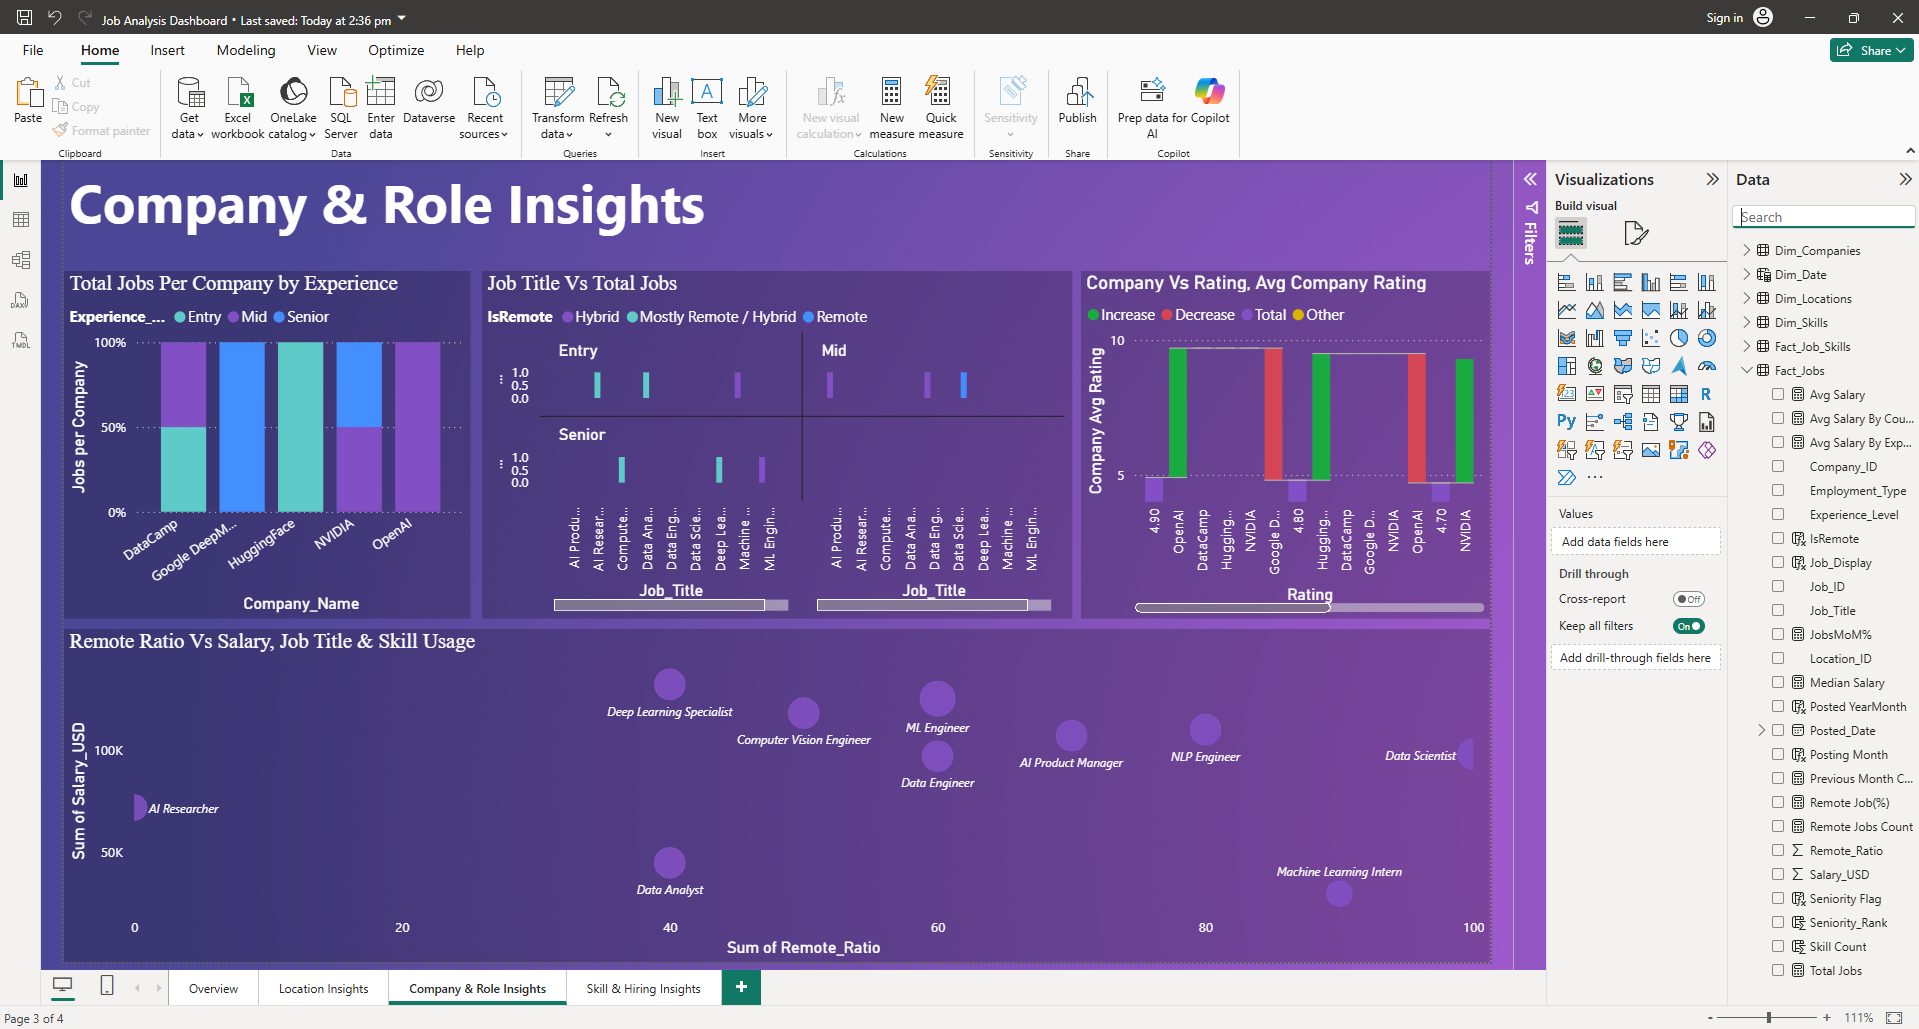

The dashboard page shown, as its layout file describes it:
{"tool":"powerbi","page":{"name":"Company & Role Insights","canvas":[1280,720],"ordinal":2},"visuals":[{"type":"textbox","box":[0,0,618.6,79],"z":0},{"type":"hundredPercentStackedColumnChart","title":"Total Jobs Per Company by Experience","fields":{"Category":["Dim_Companies.Company_Name"],"Y":["Dim_Companies.Jobs per Company"],"Series":["Fact_Jobs.Experience_Level"]},"box":[0,99.7,365.4,311.5],"z":1000},{"type":"clusteredColumnChart","title":"Job Title Vs Total Jobs","fields":{"Category":["Fact_Jobs.Job_Title"],"Y":["Fact_Jobs.Total Jobs"],"Series":["Fact_Jobs.IsRemote"],"Rows":["Fact_Jobs.Experience_Level"]},"box":[375.3,99.7,529.7,311.5],"z":2000},{"type":"waterfallChart","title":"Company Vs Rating, Avg Company Rating","fields":{"Category":["Dim_Companies.Rating"],"Breakdown":["Dim_Companies.Company_Name"],"Y":["Dim_Companies.Company Avg Rating"]},"box":[913,99.7,367.2,311.5],"z":3000},{"type":"scatterChart","title":"Remote Ratio Vs Salary, Job Title & Skill Usage","fields":{"Category":["Fact_Jobs.Job_Title"],"X":["Sum(Fact_Jobs.Remote_Ratio)"],"Y":["Sum(Fact_Jobs.Salary_USD)"],"Size":["Dim_Skills.Skill usage Count"]},"box":[0,421,1280.2,299],"z":4000}]}

Visuals, with their boxes on the page's 1280x720 design canvas (x1, y1, x2, y2). These are canvas units, not pixel positions in the 1919x1029 screenshot, which may show the page scaled, cropped or inside an application window:
textbox: detection(0, 0, 619, 79)
"Total Jobs Per Company by Experience" hundredPercentStackedColumnChart: detection(0, 100, 365, 411)
"Job Title Vs Total Jobs" clusteredColumnChart: detection(375, 100, 905, 411)
"Company Vs Rating, Avg Company Rating" waterfallChart: detection(913, 100, 1280, 411)
"Remote Ratio Vs Salary, Job Title & Skill Usage" scatterChart: detection(0, 421, 1280, 720)
